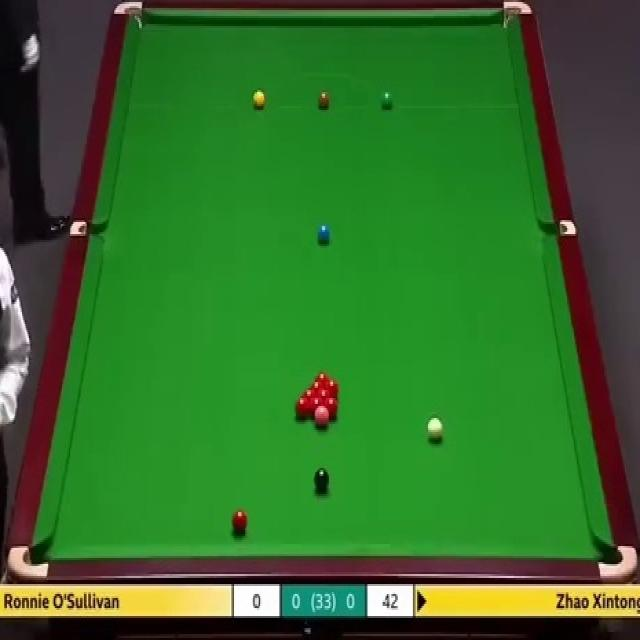black-ball: (313, 468, 330, 491)
blue-ball: (315, 223, 332, 245)
brown-ball: (318, 90, 331, 110)
green-ball: (381, 90, 395, 111)
pink-ball: (315, 407, 329, 430)
red-ball: (232, 508, 248, 533), (294, 397, 310, 419), (324, 396, 338, 421), (309, 397, 324, 419), (324, 379, 339, 400), (301, 388, 318, 402), (307, 380, 324, 394), (316, 372, 330, 384), (317, 390, 332, 400)
white-ball: (426, 413, 445, 442)
yellow-ball: (251, 89, 266, 110)
